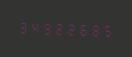eight: (89, 20, 100, 38)
five: (101, 21, 112, 38)
four: (29, 18, 40, 36)
nine: (41, 19, 52, 36)
six: (77, 20, 88, 37)
three: (17, 18, 28, 35)
two: (65, 19, 76, 37), (53, 19, 64, 36)
